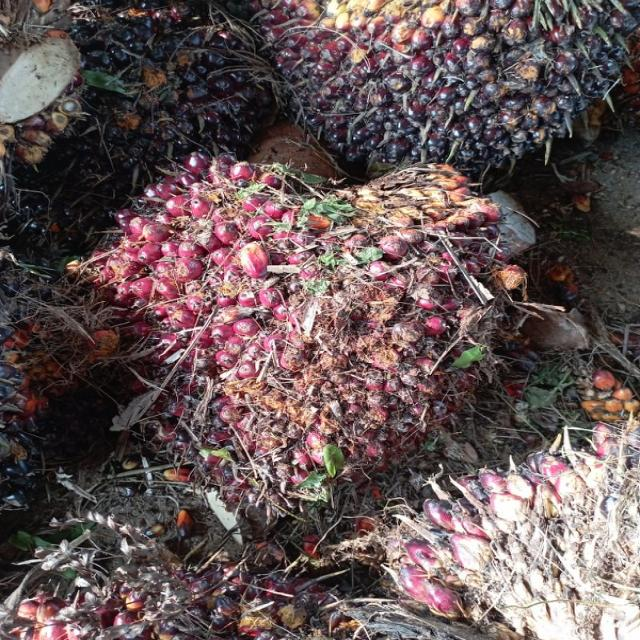fraksi 00: (258, 0, 640, 177)
fraksi 3: (110, 160, 541, 498)
